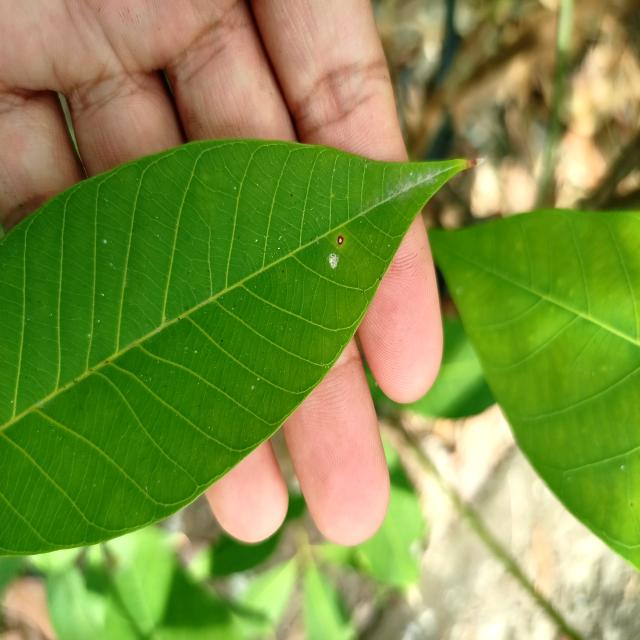Colletotrichum: (338, 236, 343, 246)
